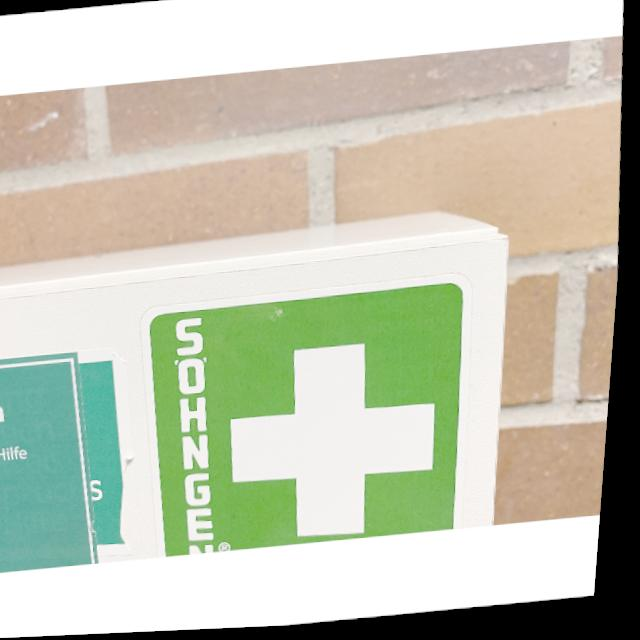first aid kit: (129, 275, 486, 562)
